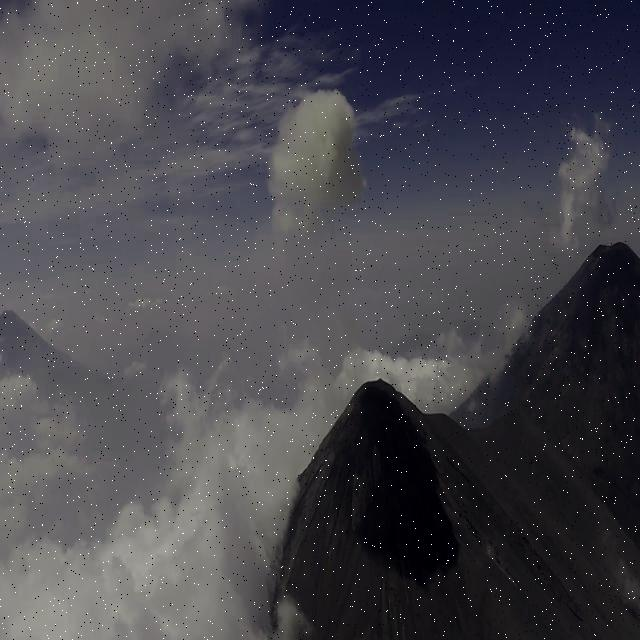Plume: (260, 69, 366, 248)
Summit: (282, 367, 474, 548)
